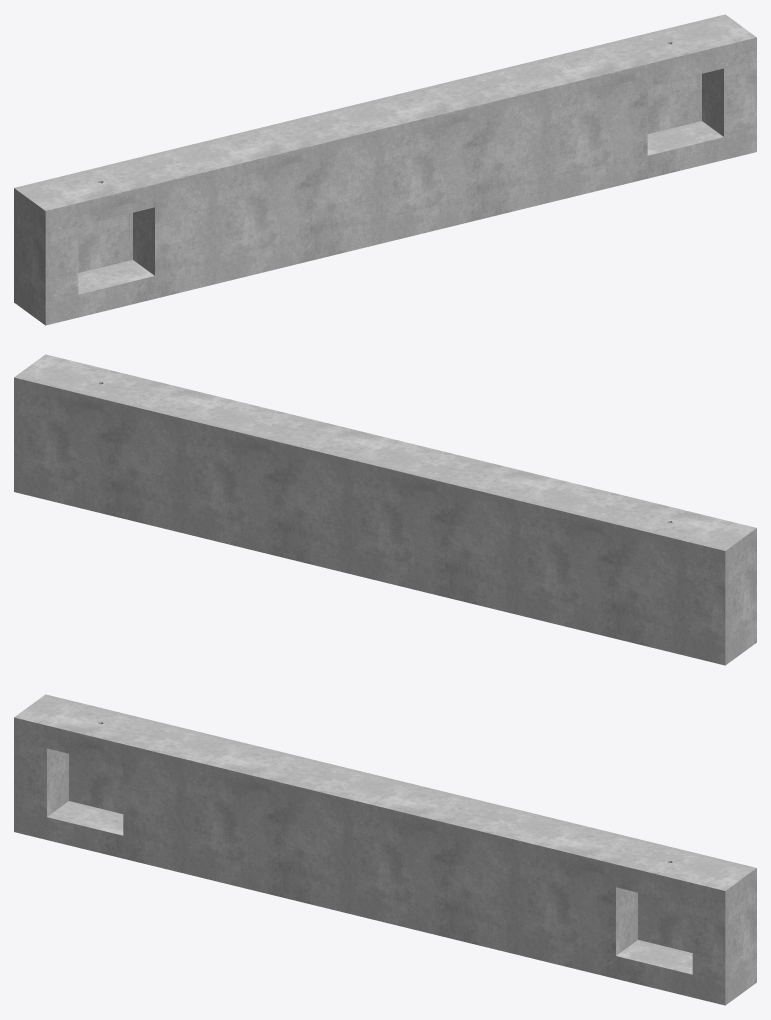
The picture shows the model from 3 angles, top to bottom: view 1: azimuth 30°, elevation 25°; view 2: azimuth 150°, elevation 25°; view 3: azimuth 330°, elevation 25°; orthographic projection.
Visible parts, largest first — view 1: Sloof; view 2: Sloof; view 3: Sloof.
Boxes of the visible parts, <box> form: Sloof: <box>14,14,756,325</box>; Sloof: <box>14,354,756,665</box>; Sloof: <box>14,694,756,1005</box>.
Size of the model in its own units: 4.27 by 0.6562 by 0.3281.
1 material, 1 textured.
